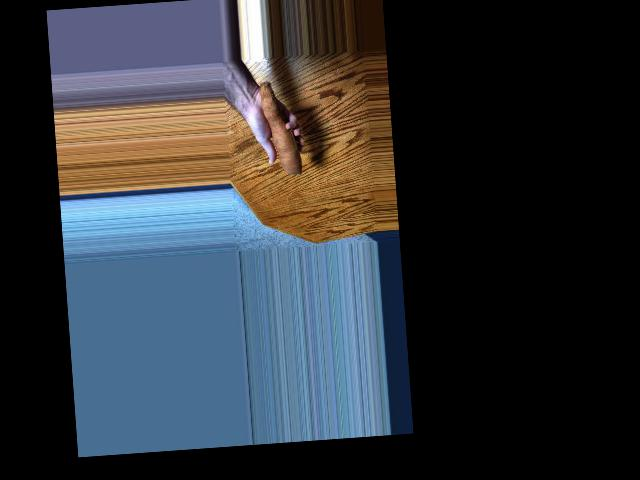sweet_potato: (258, 70, 306, 178)
